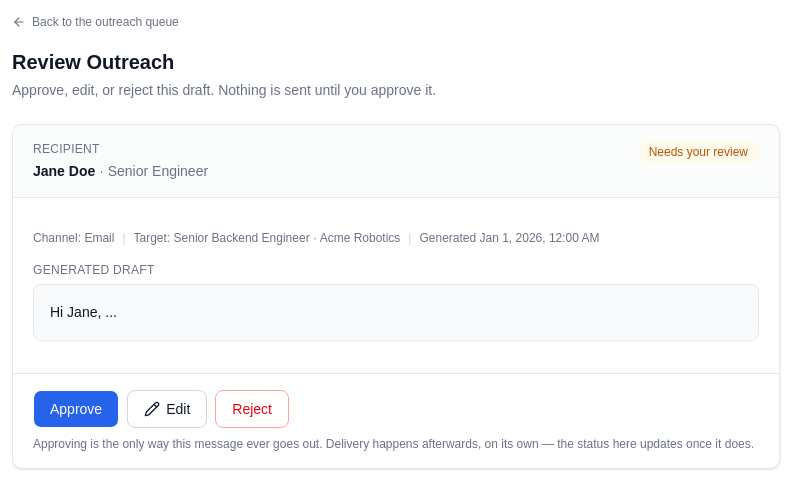
it: OutreachReviewPage (deep link) › Generated != Sent, end to end: after a real approve + refetch the page shows "Approved — will be sent shortly." and never "Sent." until a later fetch actually r
Click the button "Approve" at coordinates (76, 409), box [33,390,119,428]
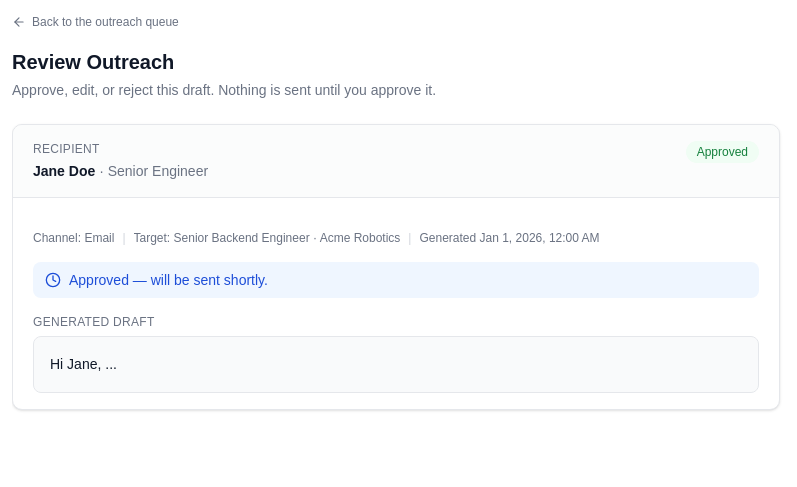
Now the text "Approved — will be sent shortly." is shown, box [69,270,268,290]
